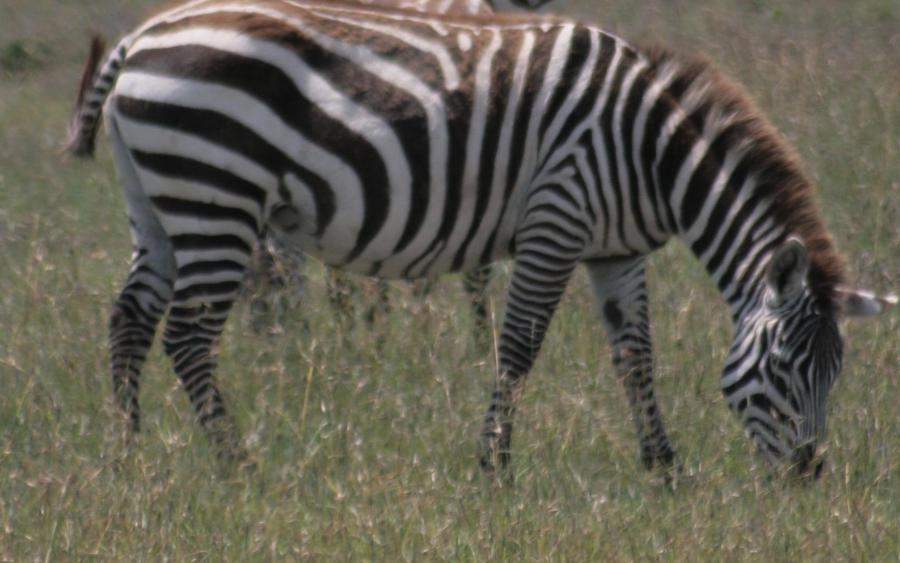zebra_plains: (101, 33, 640, 364)
